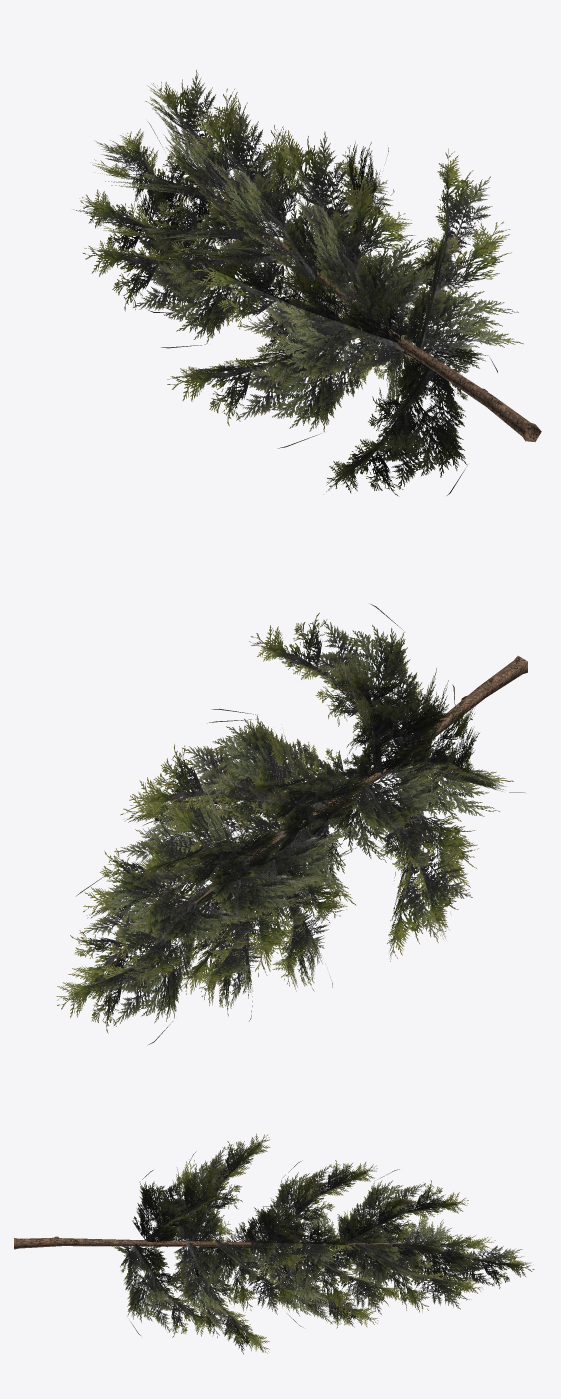
Rendered from baum hd pine fbx.fbx.
3 views of the same model, one above another, from view 1: azimuth 30°, elevation 25°; view 2: azimuth 150°, elevation 25°; view 3: azimuth 270°, elevation 25° (orthographic). The views are drawn at different scales.
Visible parts, largest first — view 1: group_1; view 2: group_1; view 3: group_1.
Part boxes in pixels (<box>): group_1: <box>73,70,541,496</box>; group_1: <box>56,604,527,1045</box>; group_1: <box>14,1133,534,1354</box>.
Size of the model in its own units: 10.1 by 10.21 by 19.47.
